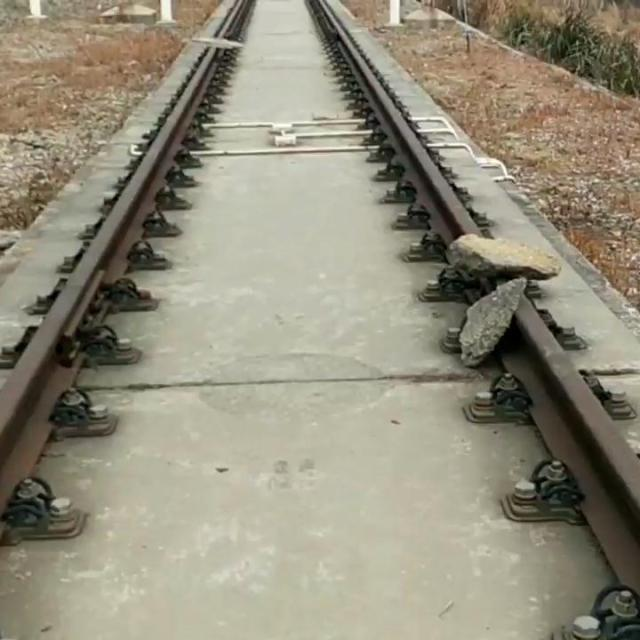danger: (437, 229, 567, 373), (190, 34, 248, 58)
rail: (0, 48, 221, 513), (309, 0, 481, 242), (504, 300, 640, 591), (505, 297, 640, 585), (215, 0, 249, 37)
